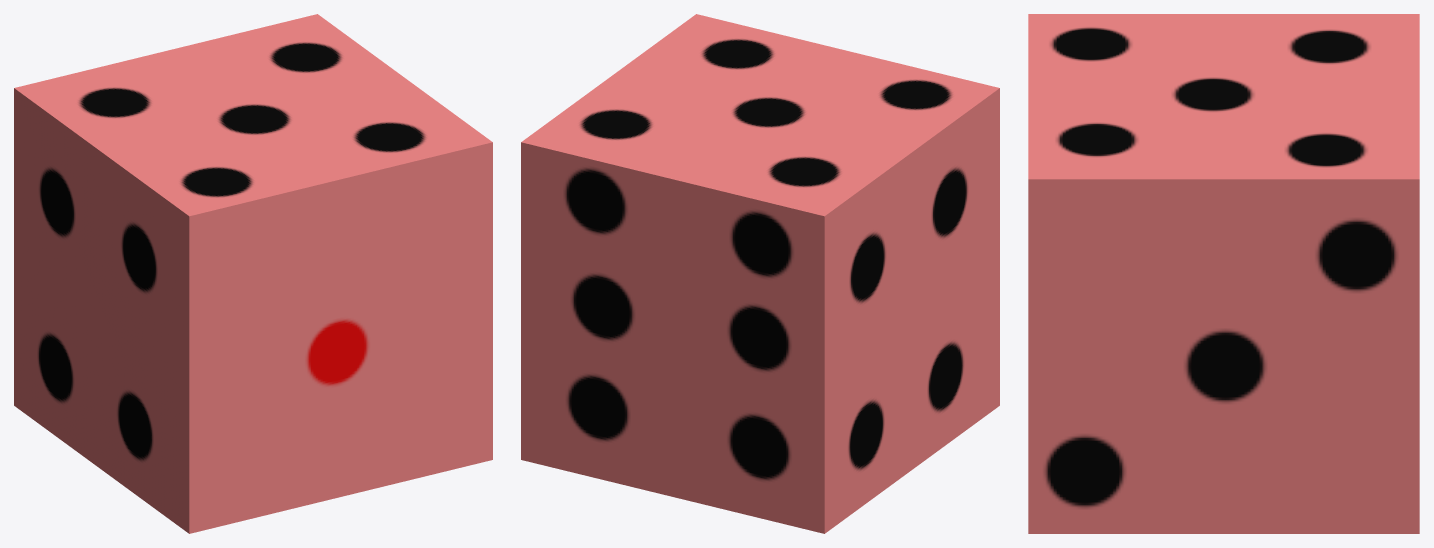
Rendered from RedDice.fbx.
3 renders of one model, left to right at view 1: azimuth 30°, elevation 25°; view 2: azimuth 150°, elevation 25°; view 3: azimuth 270°, elevation 25°, orthographic. The views are drawn at different scales.
Parts seen in each view (by area): view 1: pCube4; view 2: pCube4; view 3: pCube4.
Part boxes in pixels (x1,y1,x2,y2): pCube4: [14, 14, 492, 533]; pCube4: [521, 14, 999, 533]; pCube4: [1028, 14, 1419, 533].
Bounding box in the file's own units: 1 × 1 × 1.
